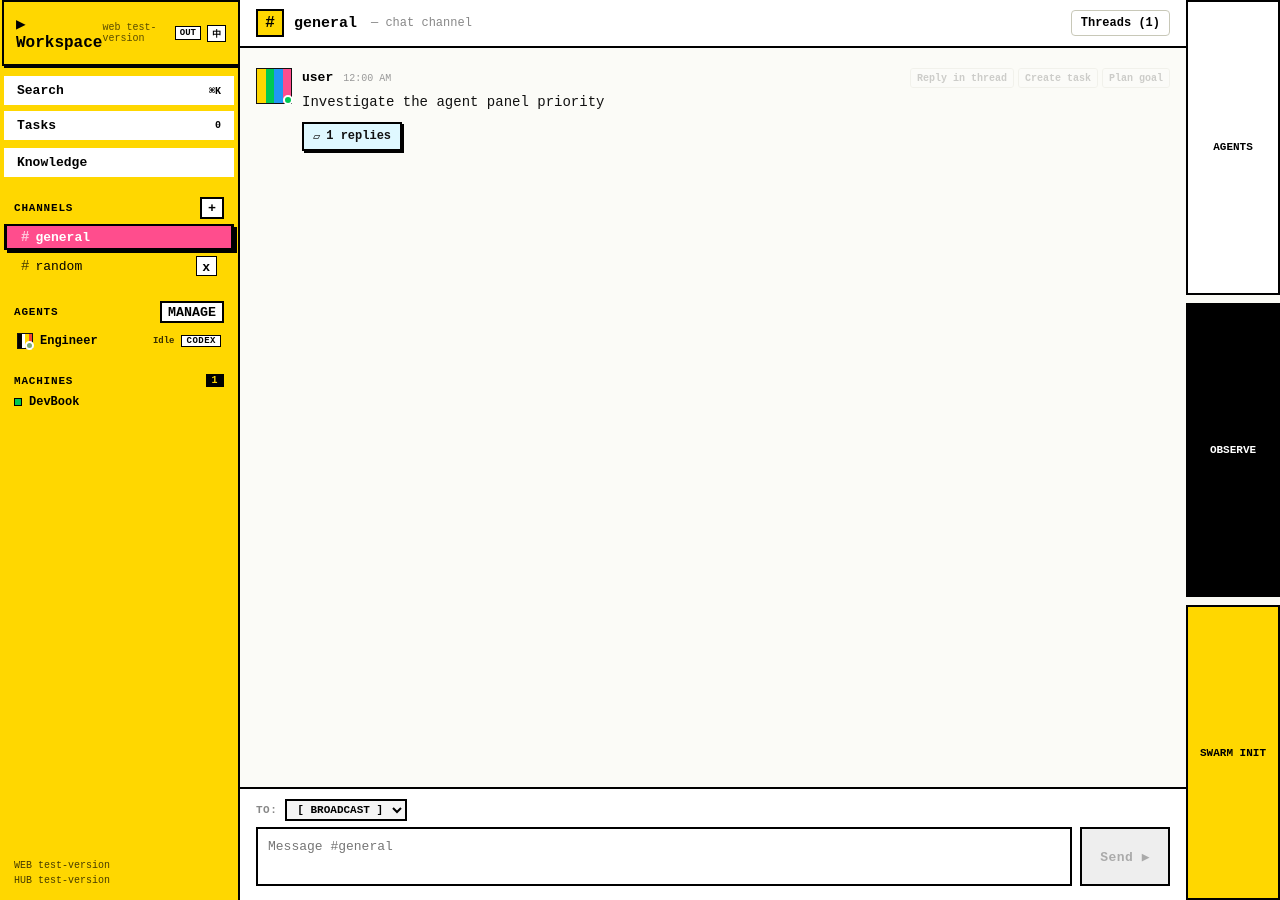
Scenario: App › shows the bound machine name and id in the agent detail profile
Click the text "Engineer": [69, 341] box [40, 334, 98, 348]
(page scrolled)
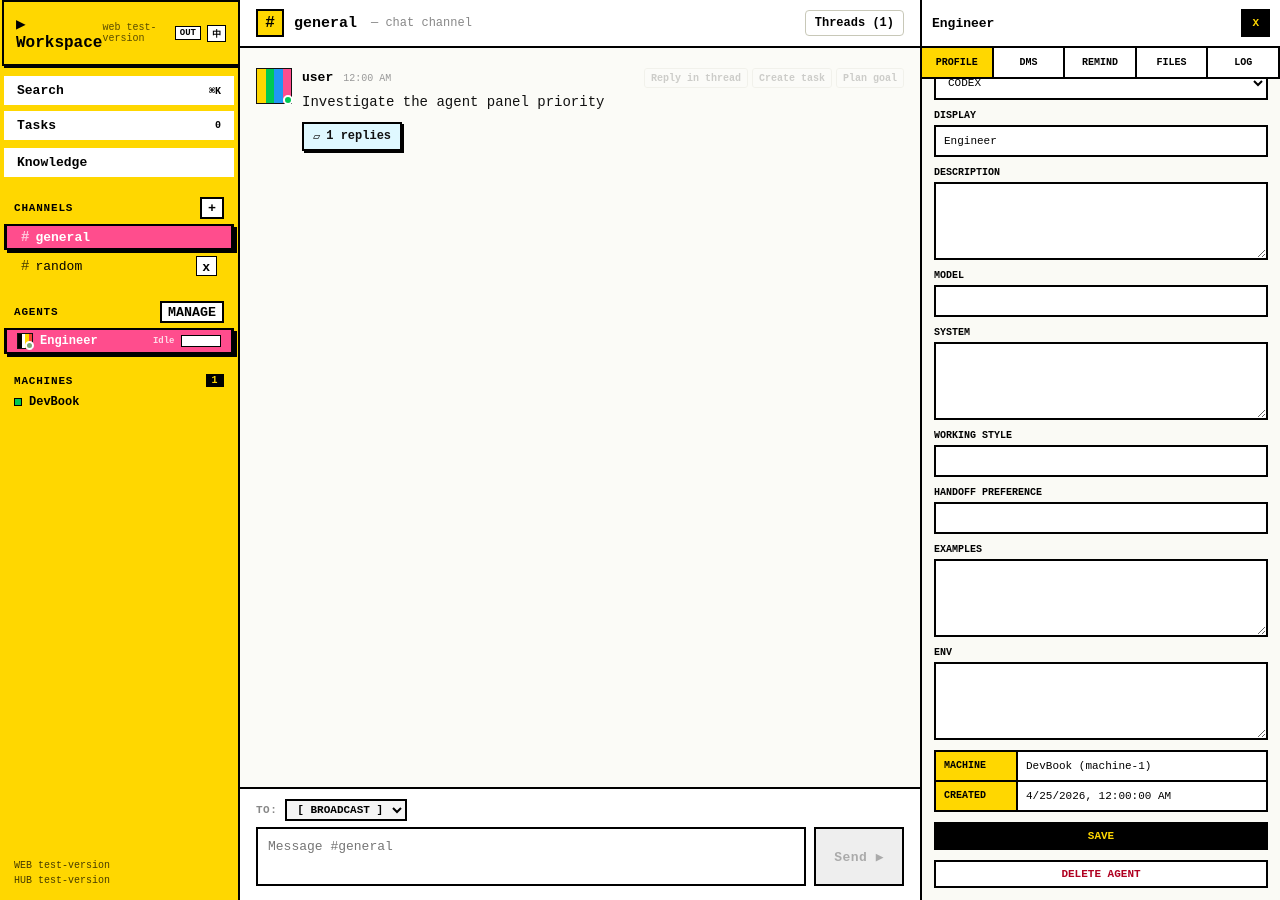
Result: the text "DevBook (machine-1)" is shown at [1026, 760, 1151, 772]
